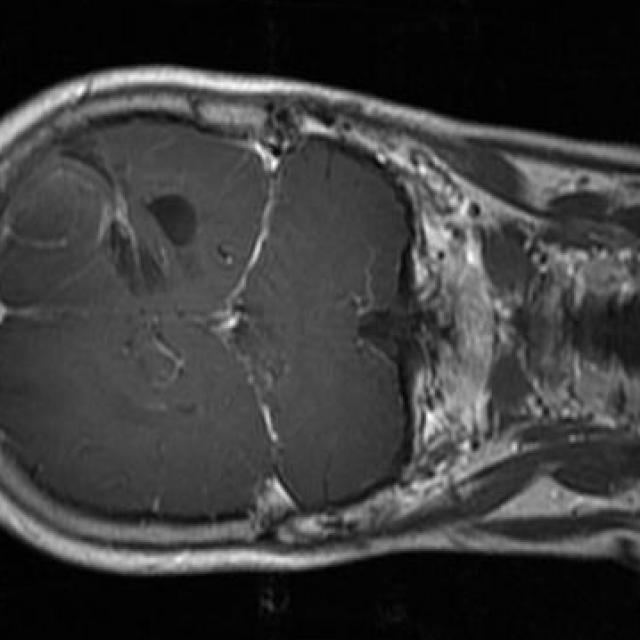glioma: (7, 144, 194, 298)
